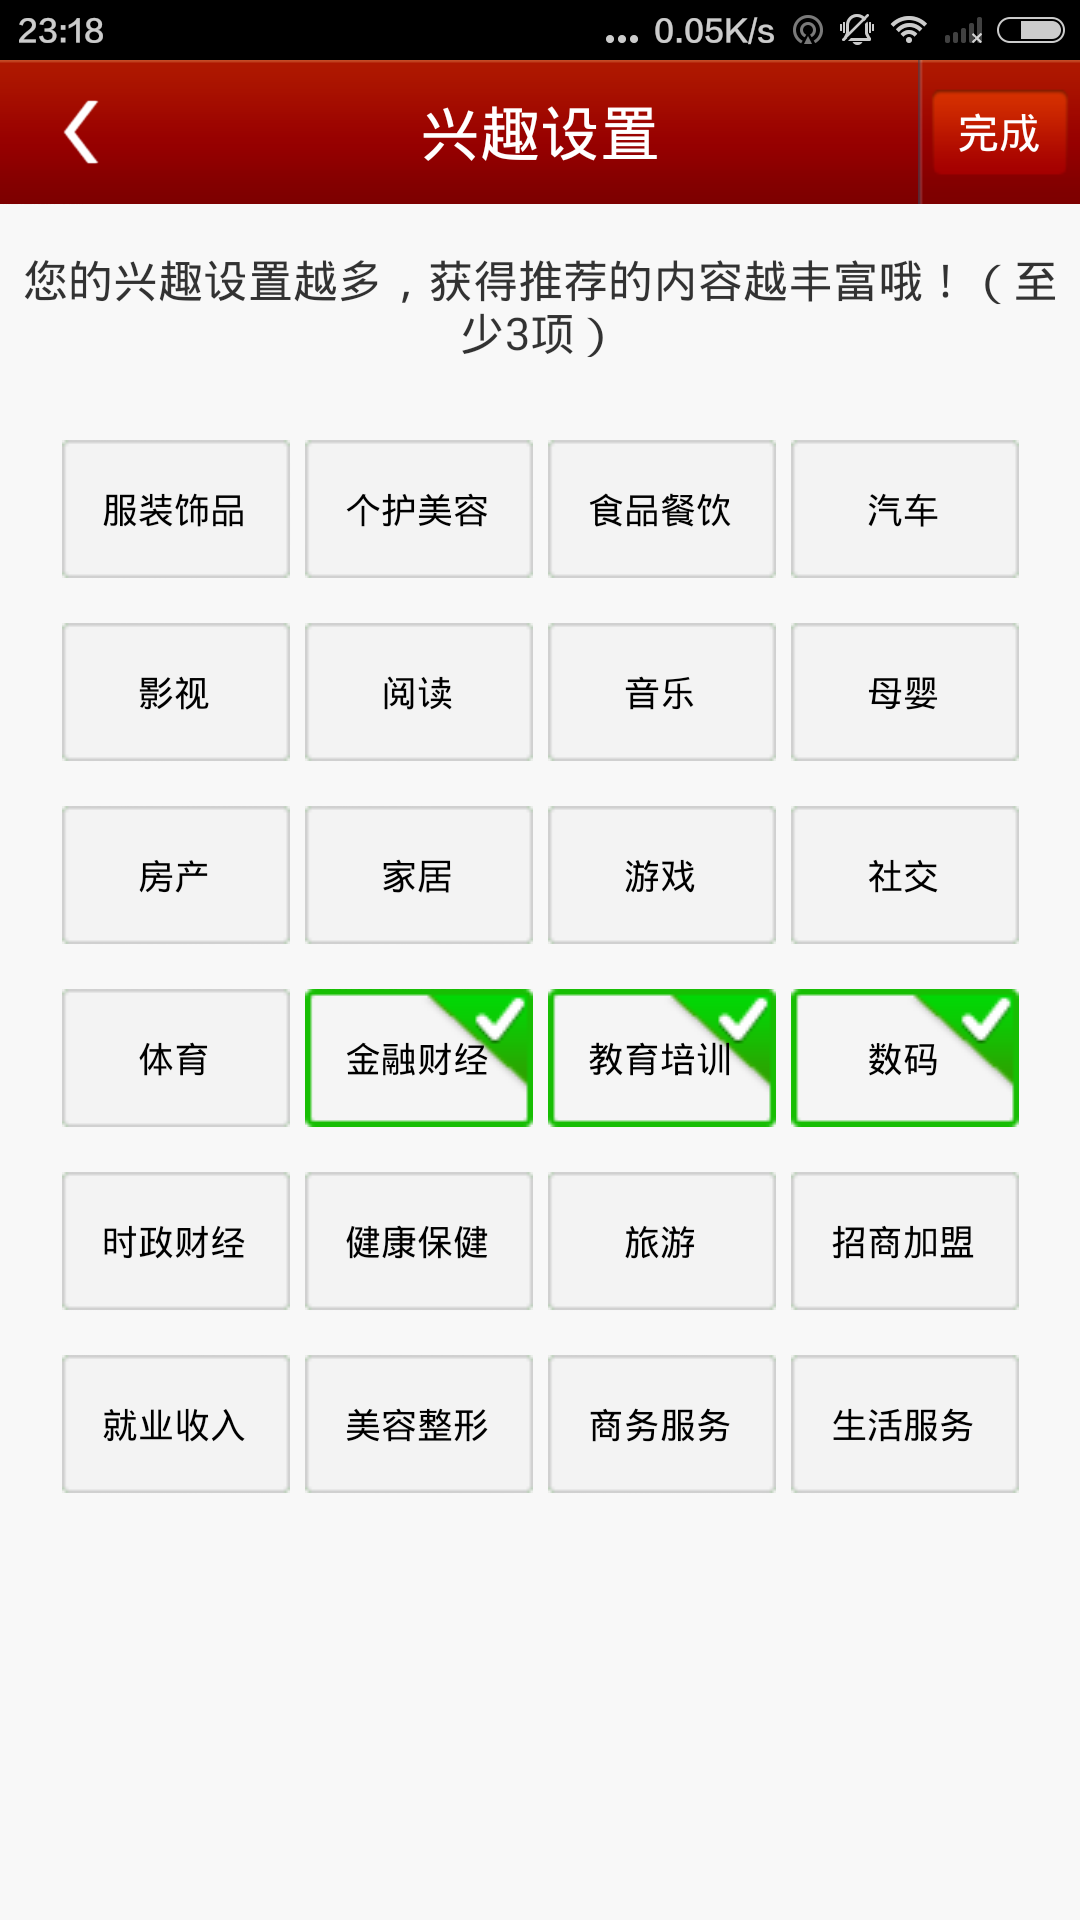button: (295, 796, 546, 956), (298, 981, 546, 1139), (916, 80, 1079, 189)
